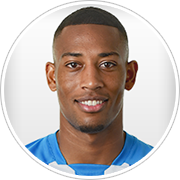face: (43, 46, 141, 119)
